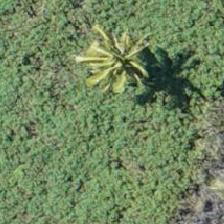coconut_tree: (68, 17, 158, 107)
